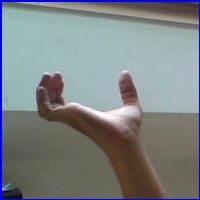B: (29, 63, 151, 156)
